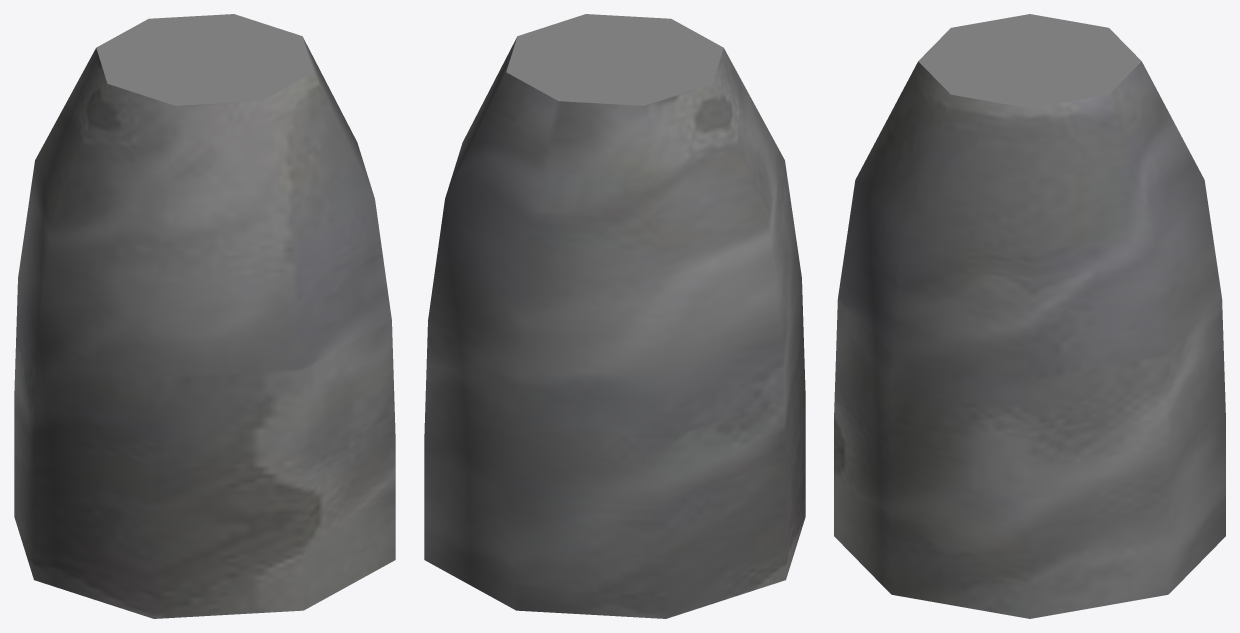
The model's file is conic_body_small.gltf.
3 views of the same model, side by side, from view 1: azimuth 30°, elevation 25°; view 2: azimuth 150°, elevation 25°; view 3: azimuth 270°, elevation 25° (orthographic).
Visible parts, largest first — view 1: Mesh_0; view 2: Mesh_0; view 3: Mesh_0.
Part boxes in pixels (left/top/right/bottom): Mesh_0: left=14, top=14, right=395, bottom=618; Mesh_0: left=424, top=14, right=805, bottom=618; Mesh_0: left=834, top=14, right=1225, bottom=618.
Bounding box in the file's own units: 0.228 × 0.3048 × 0.228.
Materials: 1 (1 with a texture image).
